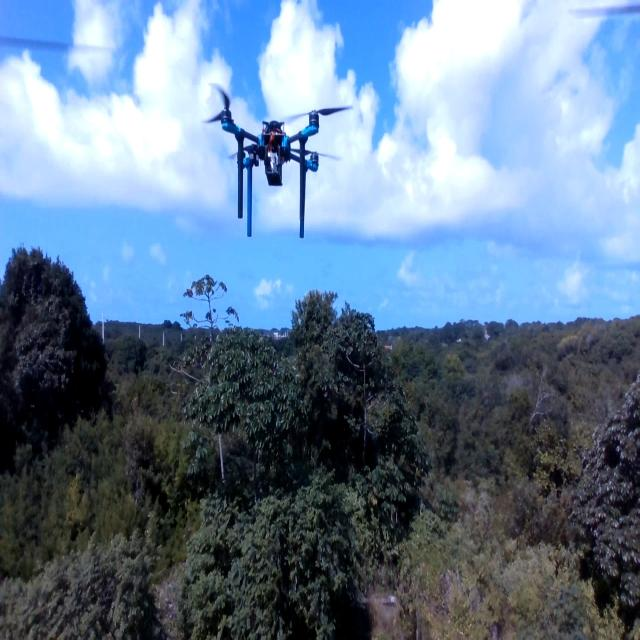-uav-: (192, 62, 362, 270)
